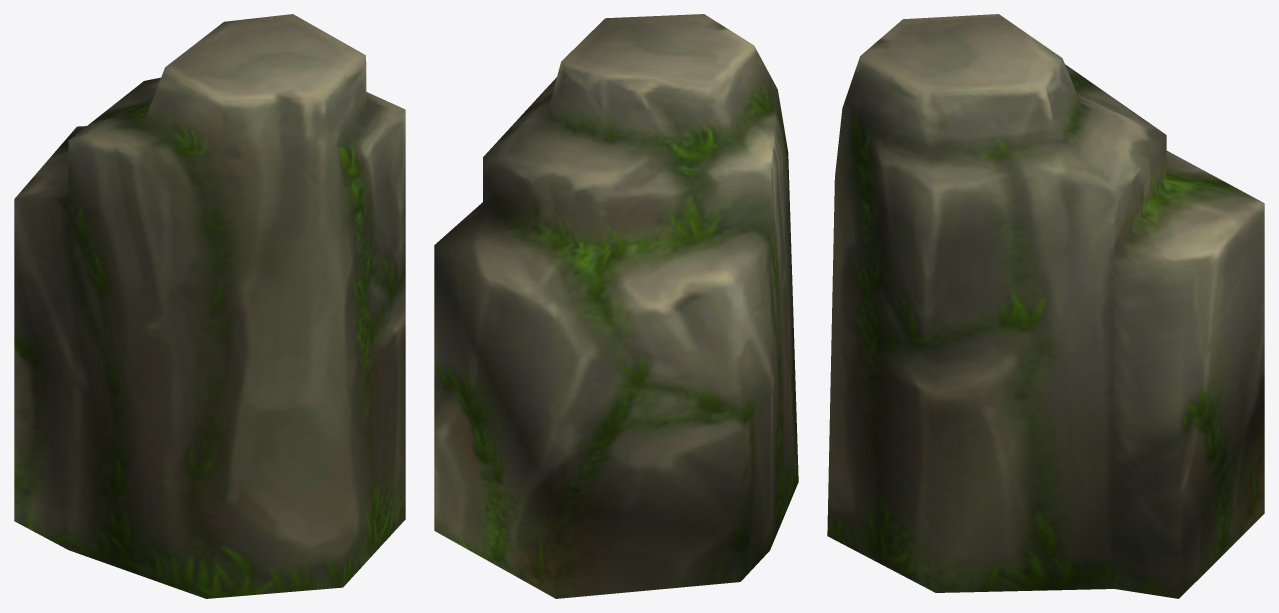
The model's file is RockFormation_4_5 (13).fbx.
3 renders of one model, left to right at view 1: azimuth 30°, elevation 25°; view 2: azimuth 150°, elevation 25°; view 3: azimuth 270°, elevation 25°, orthographic. The views are drawn at different scales.
Visible parts, largest first — view 1: RockFormation_4_5 (13); view 2: RockFormation_4_5 (13); view 3: RockFormation_4_5 (13).
Boxes of the visible parts, left/top/right/bottom form: RockFormation_4_5 (13): left=14, top=14, right=405, bottom=598; RockFormation_4_5 (13): left=434, top=14, right=798, bottom=598; RockFormation_4_5 (13): left=827, top=14, right=1264, bottom=598.
Size of the model in its own units: 77.25 by 115 by 95.39.
